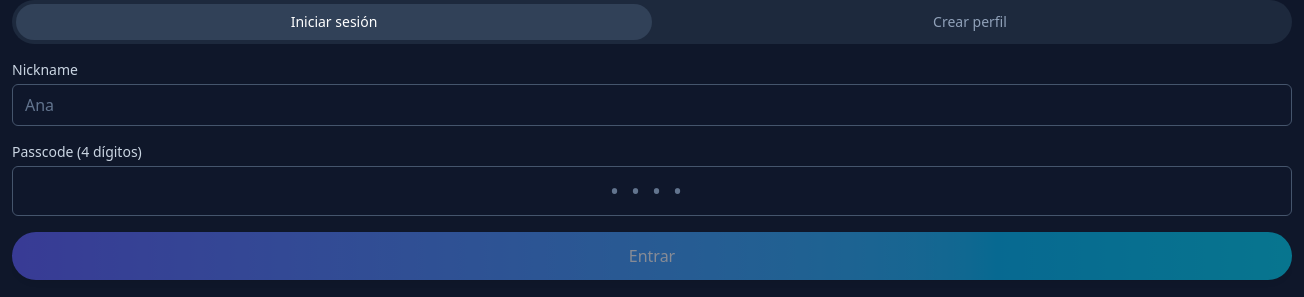
Test case: <AuthForm /> › submit is disabled until nickname (≥2) and 4-digit passcode are valid
expect the button with test id "submit" is disabled: met, box [12, 232, 1292, 280]
In the field with test id "nickname": (652, 105) [12, 84, 1292, 126], type "A"
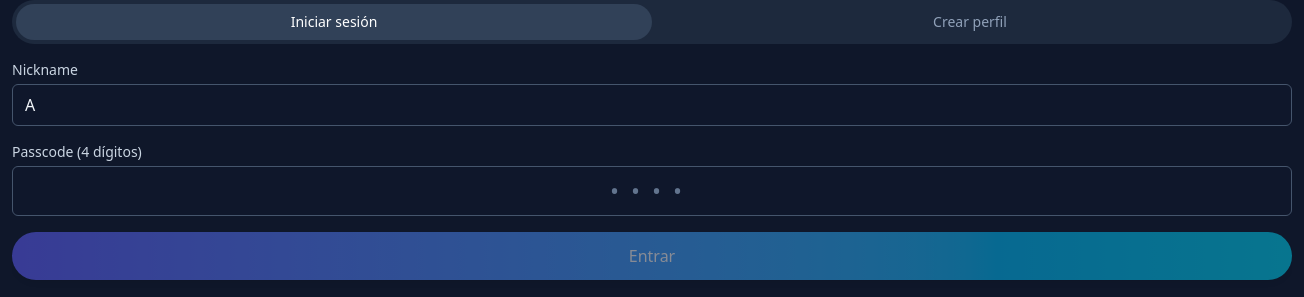
expect the button with test id "submit" is disabled: met, box [12, 232, 1292, 280]
Replace the text in the field with test id "nickname" with "Ana": (652, 105) [12, 84, 1292, 126]
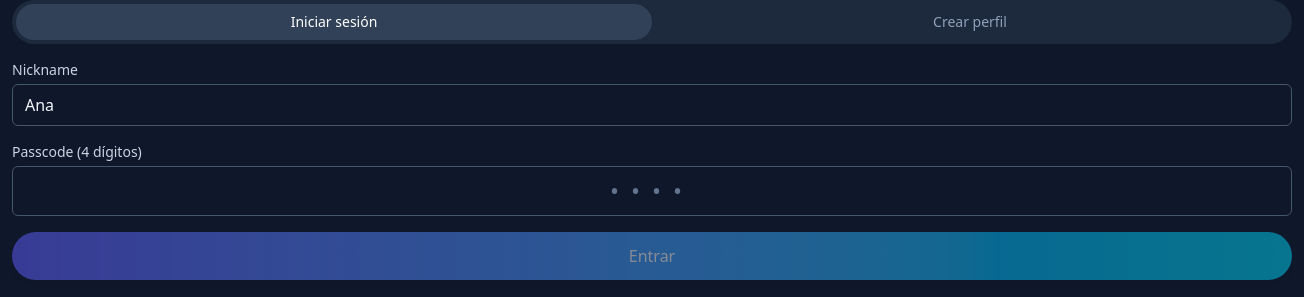
expect the button with test id "submit" is disabled: met, box [12, 232, 1292, 280]
In the password field with test id "passcode": (652, 191) [12, 166, 1292, 216], type "12"
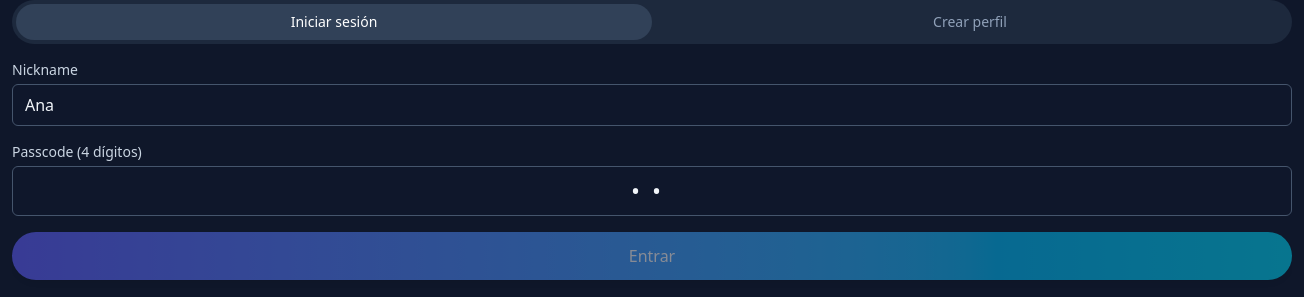
expect the button with test id "submit" is disabled: met, box [12, 232, 1292, 280]
In the password field with test id "passcode": (652, 191) [12, 166, 1292, 216], type "1234"
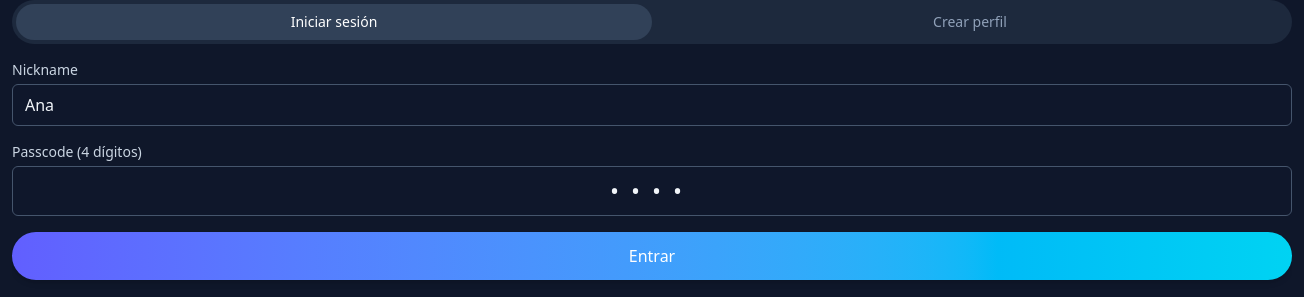
expect the button with test id "submit" is enabled: met, box [12, 232, 1292, 280]
